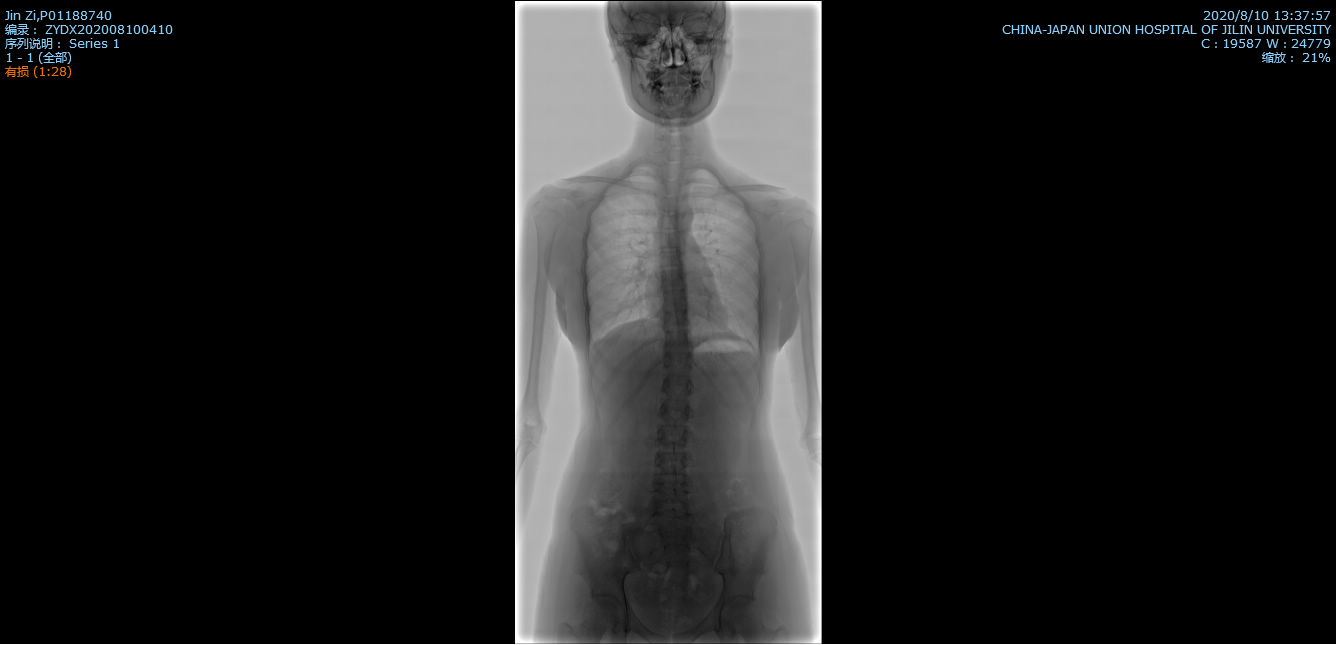胸10椎体: (664, 330, 689, 348)
胸11椎体: (664, 352, 693, 368)
胸12椎体: (663, 375, 693, 396)
胸6椎体: (660, 232, 681, 247)
胸7椎体: (661, 270, 685, 288), (658, 213, 682, 229), (658, 251, 682, 266)
胸8椎体: (663, 295, 688, 309)
胸9椎体: (664, 313, 689, 327)
腰1椎体: (661, 400, 691, 419)
腰2椎体: (658, 425, 689, 445)
腰3椎体: (656, 452, 689, 470)
腰4椎体: (655, 477, 688, 493)
腰5椎体: (654, 498, 689, 518)
